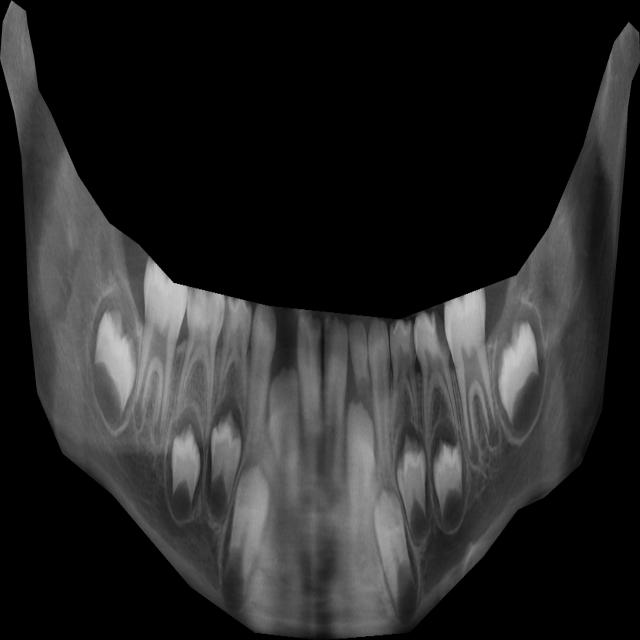mandibula: (0, 0, 640, 640)
